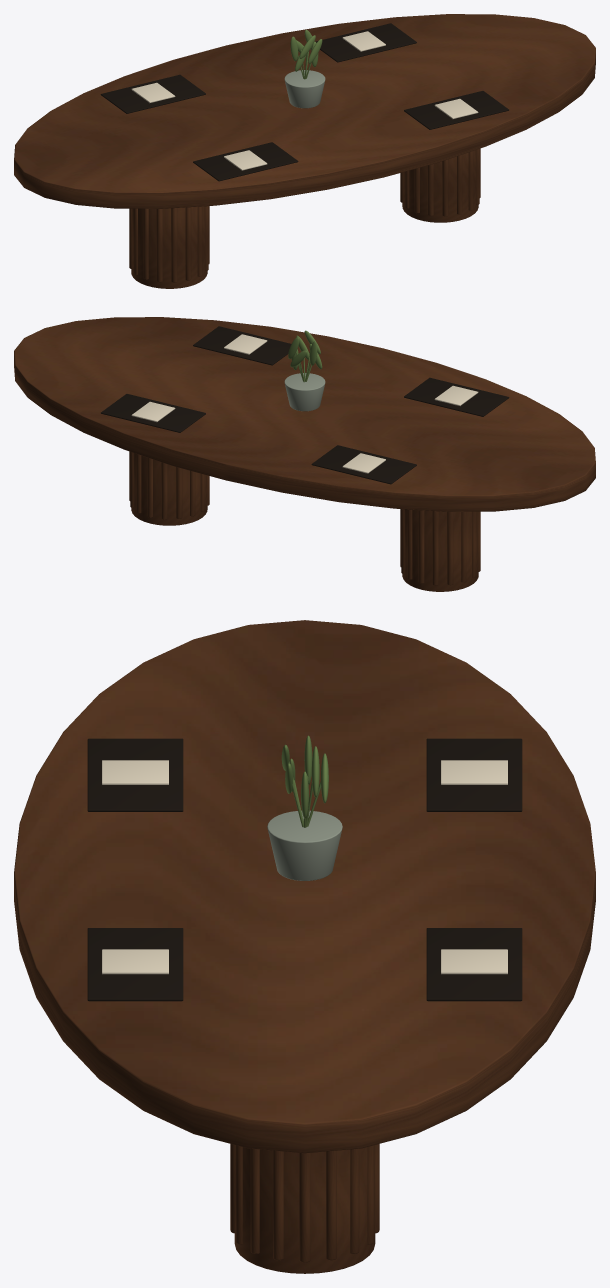
Rendered from conference-v1.glb.
3 views of the same model, one above another, from view 1: azimuth 30°, elevation 25°; view 2: azimuth 150°, elevation 25°; view 3: azimuth 270°, elevation 25° (orthographic). The views are drawn at different scales.
Visible parts, largest first — view 1: Oval walnut conference top; view 2: Oval walnut conference top; view 3: Oval walnut conference top.
Part boxes in pixels (x1,y1,x2,y2): Oval walnut conference top: [14, 14, 595, 288]; Oval walnut conference top: [14, 317, 595, 591]; Oval walnut conference top: [14, 620, 595, 1273].
Bounding box in the file's own units: 3.73 × 1.32 × 1.82.
Materials: 6 (2 with a texture image).
